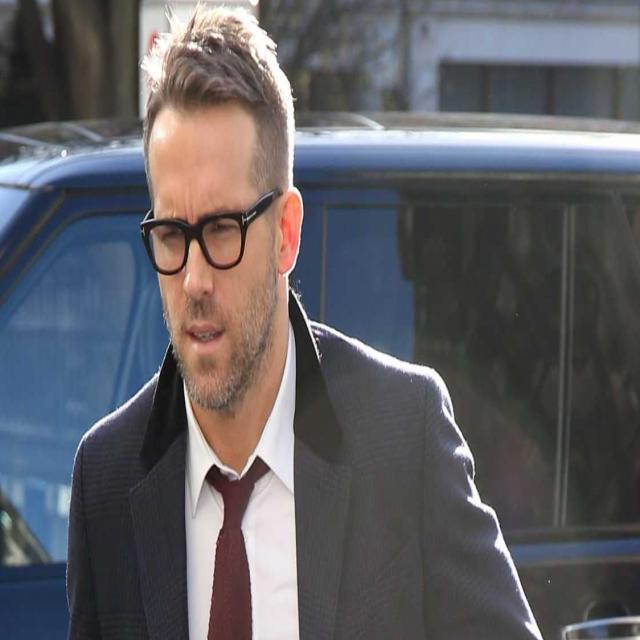Glasses: (138, 192, 279, 276)
